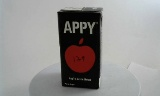appy: (52, 5, 97, 89)
